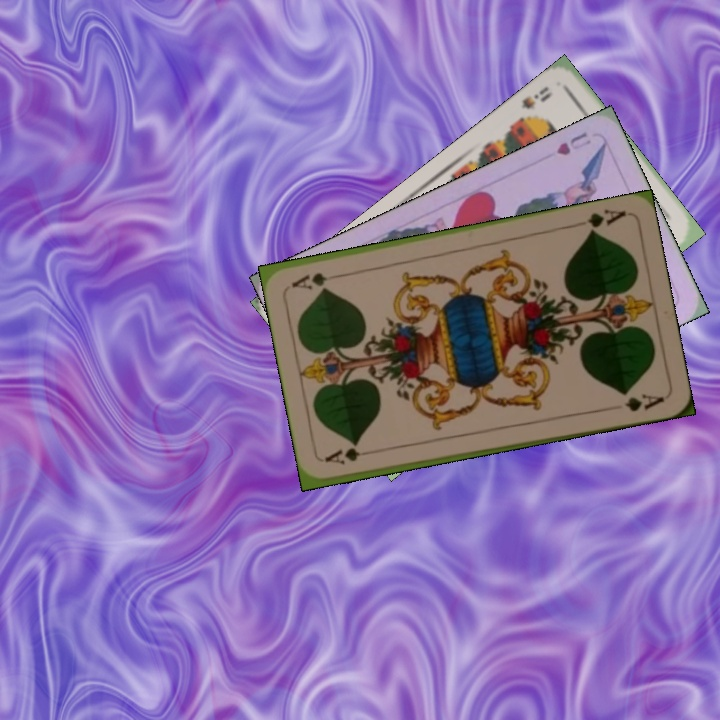GA: (571, 205, 629, 237), (321, 444, 380, 467)
HU: (552, 128, 594, 158)
S9: (510, 82, 555, 127)
